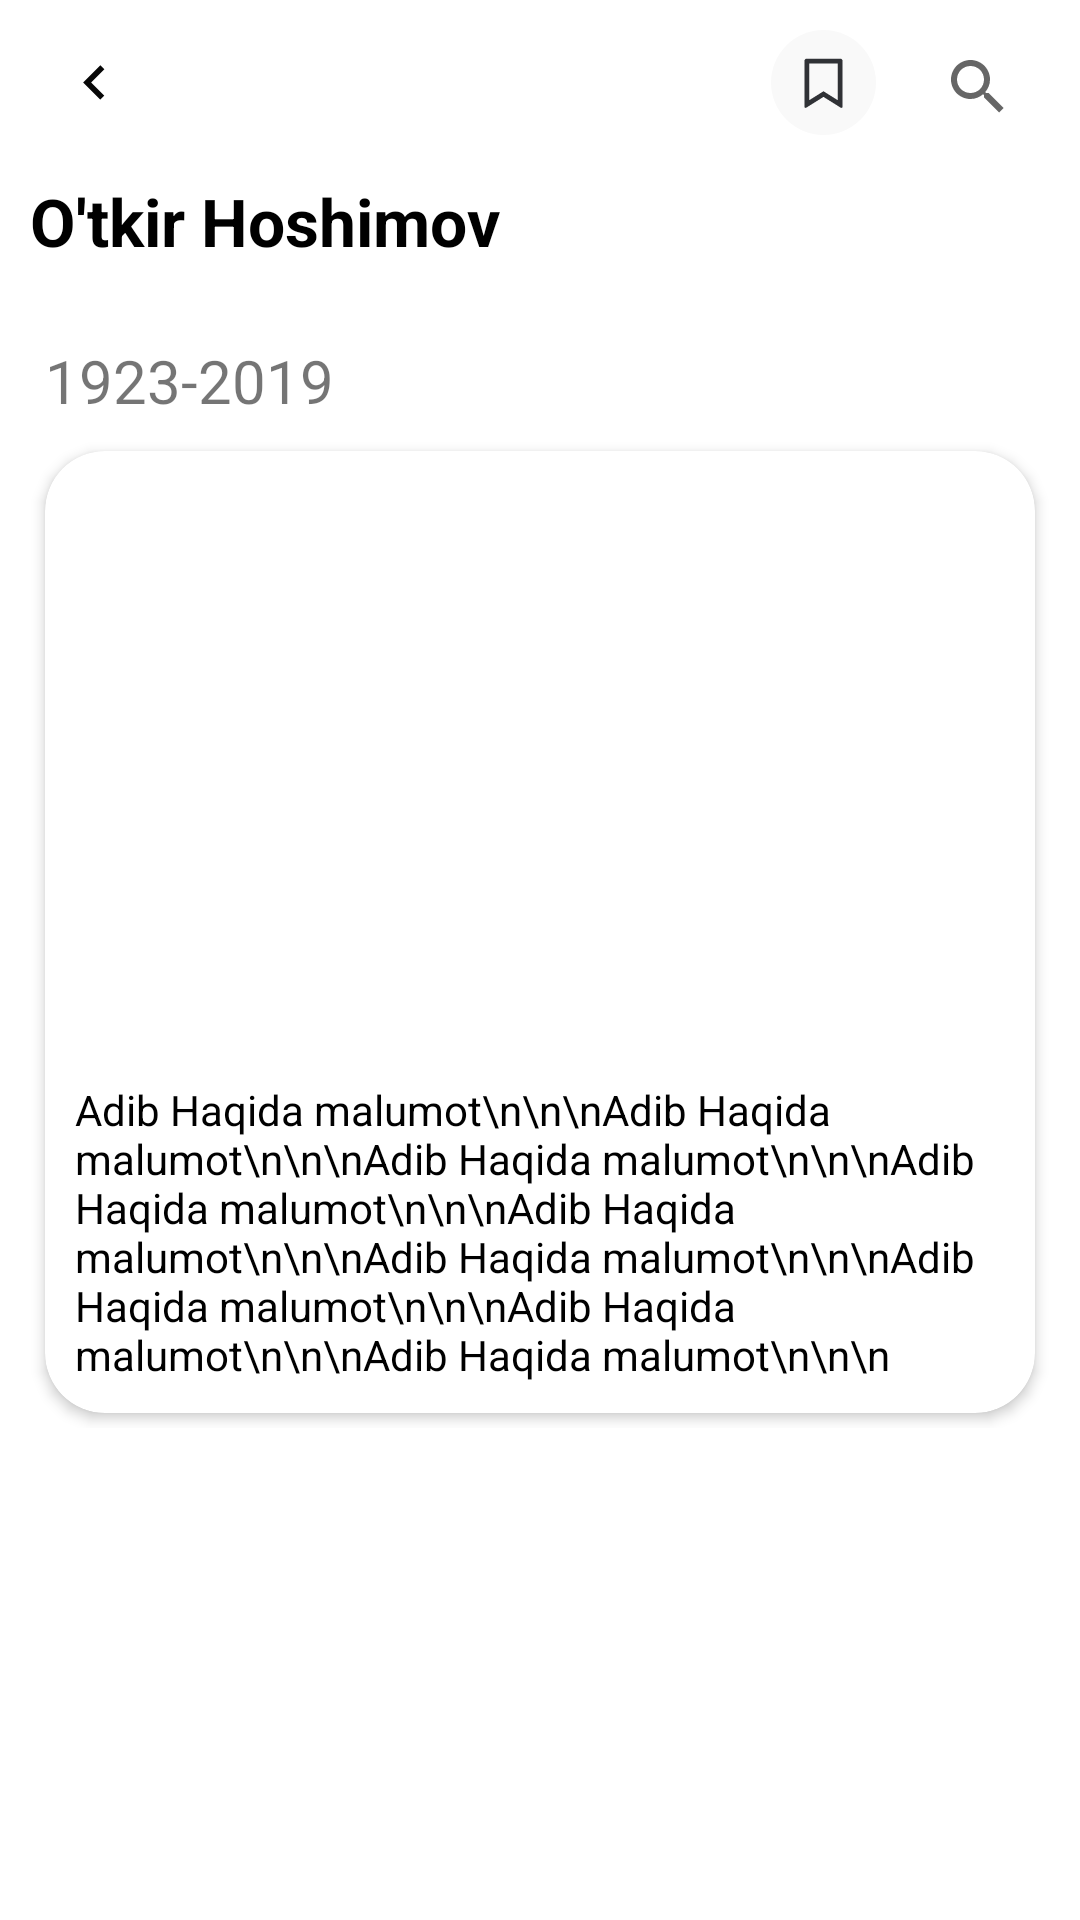

Icons on this 1080w x 1920h Android screen, each with the point to tap as (x=x, y=y):
arrow back: (x=94, y=82)
saqlangan: (x=823, y=83)
